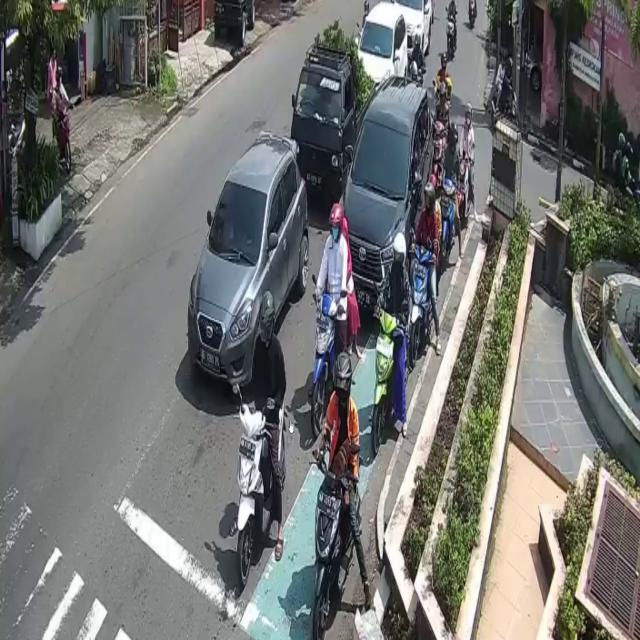bus: (234, 390, 290, 583), (313, 458, 360, 640), (371, 306, 399, 452), (314, 292, 343, 430), (410, 243, 433, 361), (488, 80, 520, 135), (51, 101, 74, 169), (442, 174, 457, 252)
motorcycle: (188, 131, 308, 393), (341, 77, 434, 322), (290, 42, 376, 200), (358, 0, 409, 84), (394, 0, 431, 58)
